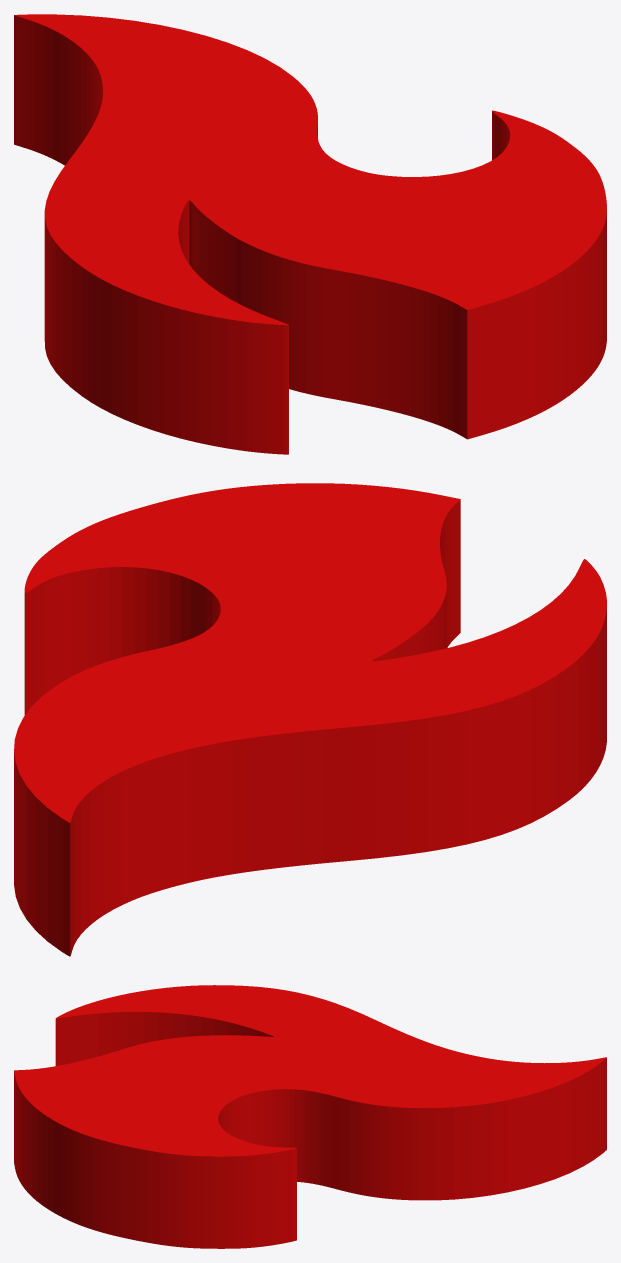
The model's file is Feuer_simple.fbx.
3 renders of one model, top to bottom at view 1: azimuth 30°, elevation 25°; view 2: azimuth 150°, elevation 25°; view 3: azimuth 270°, elevation 25°, orthographic. The views are drawn at different scales.
Parts seen in each view (by area): view 1: path179; view 2: path179; view 3: path179.
Part boxes in pixels (left/top/right/bottom): path179: left=14, top=14, right=606, bottom=454; path179: left=14, top=483, right=606, bottom=956; path179: left=14, top=985, right=606, bottom=1248.
Size of the model in its own units: 5.97 by 1.5 by 8.73.
